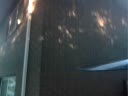window: (1, 10, 54, 96), (65, 66, 95, 96), (65, 34, 85, 51), (114, 73, 128, 94), (112, 44, 128, 57)
